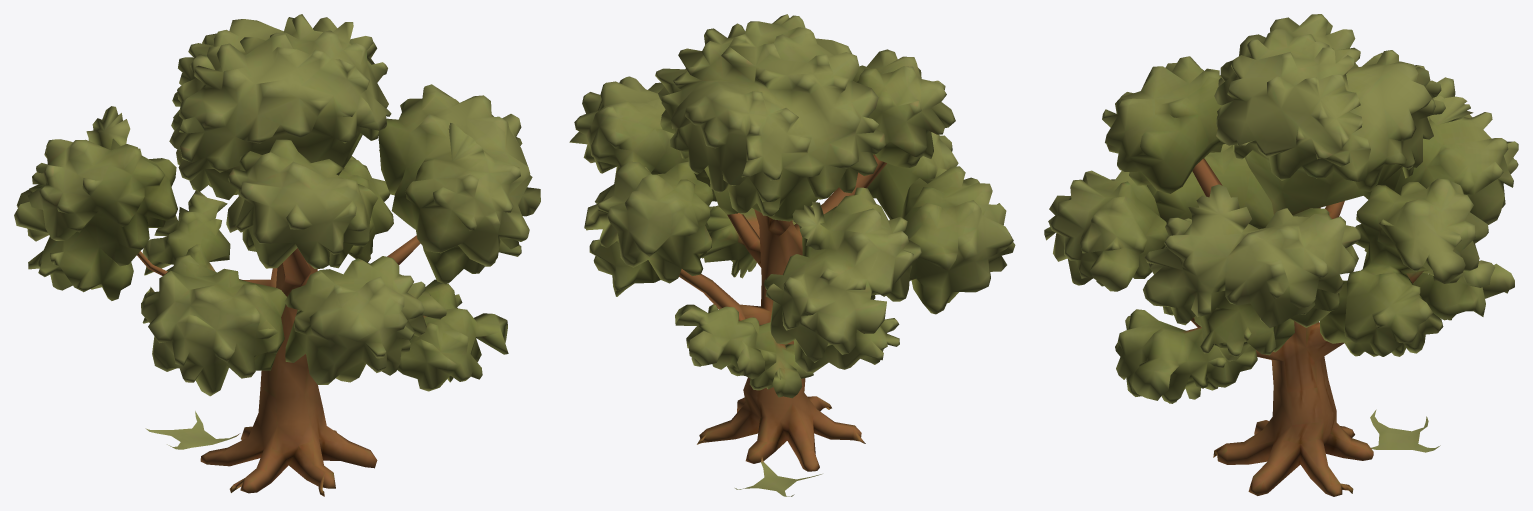
File: arvore_dois.glb
3 views of the same model, side by side, from view 1: azimuth 30°, elevation 25°; view 2: azimuth 150°, elevation 25°; view 3: azimuth 270°, elevation 25° (orthographic). The views are drawn at different scales.
Visible parts, largest first — view 1: tripo_node_4a6748ee-f52b-4d91-a0ba-804ce628838a; view 2: tripo_node_4a6748ee-f52b-4d91-a0ba-804ce628838a; view 3: tripo_node_4a6748ee-f52b-4d91-a0ba-804ce628838a.
Part boxes in pixels (left/top/right/bottom): tripo_node_4a6748ee-f52b-4d91-a0ba-804ce628838a: left=14, top=14, right=540, bottom=496; tripo_node_4a6748ee-f52b-4d91-a0ba-804ce628838a: left=569, top=14, right=1015, bottom=496; tripo_node_4a6748ee-f52b-4d91-a0ba-804ce628838a: left=1044, top=14, right=1518, bottom=496.
Size of the model in its own units: 0.998 by 0.998 by 0.998.
Materials: 1 (1 with a texture image).
